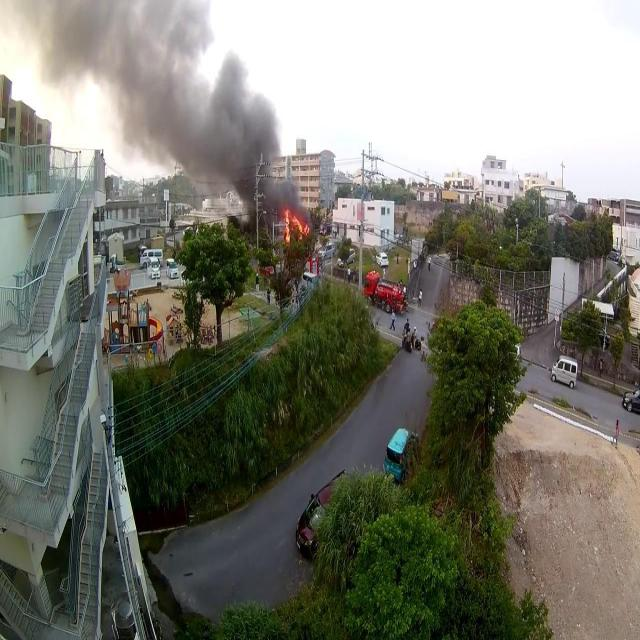Fire: (282, 208, 310, 241)
